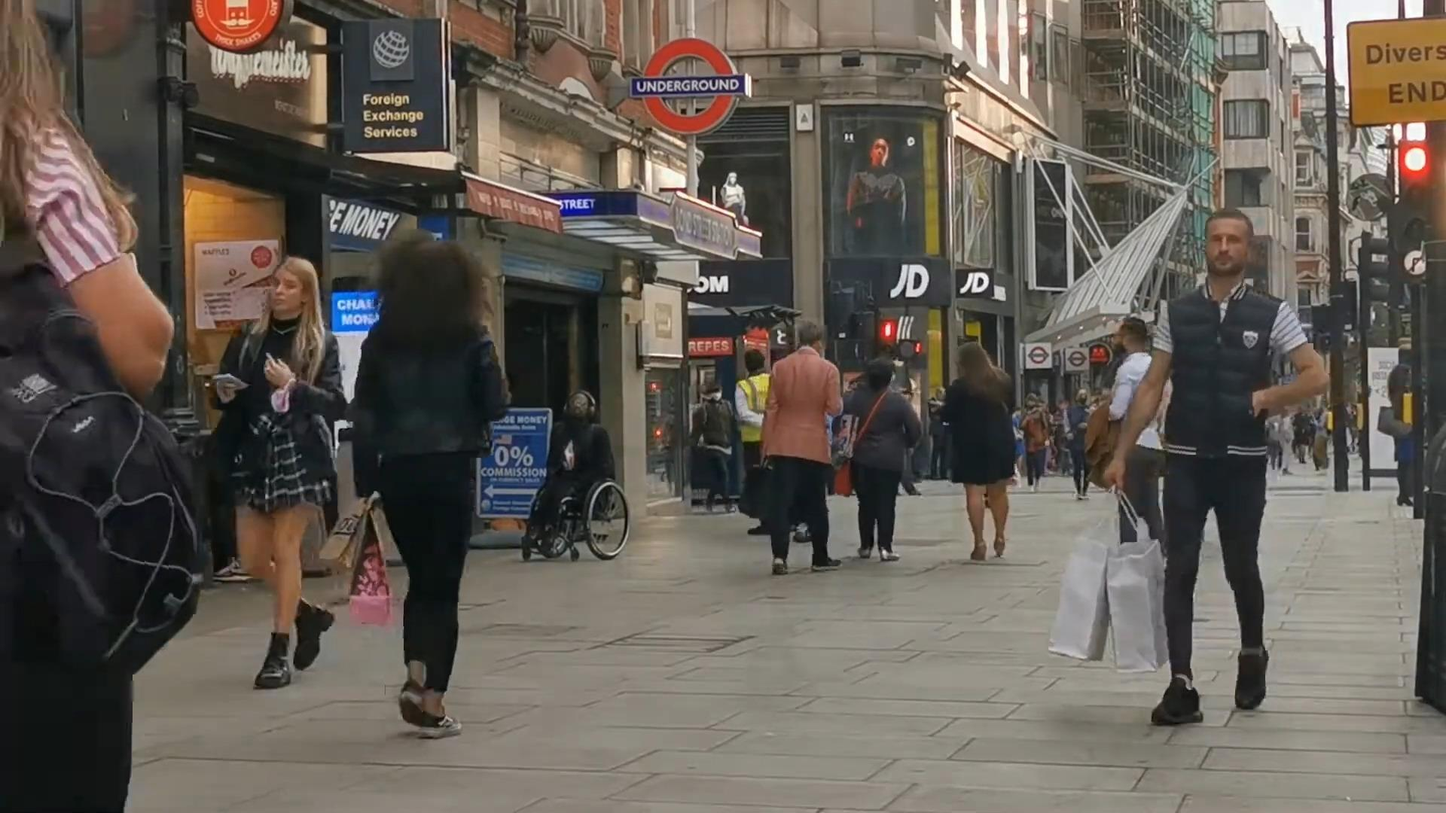no-helmet: (375, 228, 485, 327), (262, 258, 323, 318), (1202, 206, 1253, 277), (958, 342, 993, 387), (1114, 316, 1147, 355), (866, 356, 897, 393), (800, 320, 822, 353), (745, 349, 765, 373)
